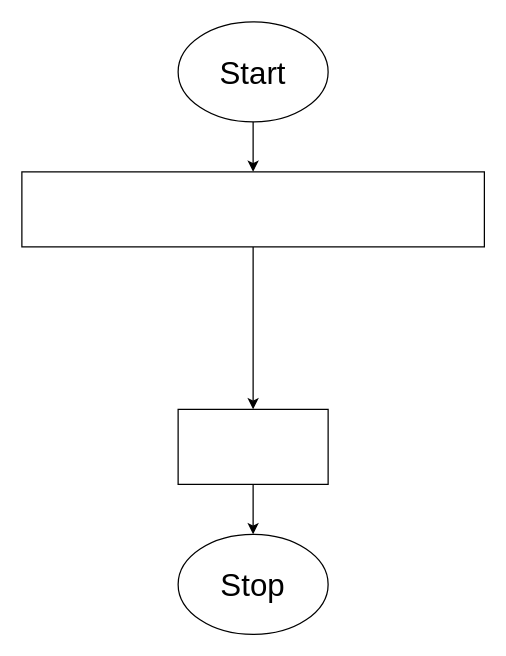
This 506x656 diagram has some shape labels left out. The shapes that lost their labels are listed below. From the top down, each one's centre as x and y in pixels, then its label:
the point at 252,209: Pobierz wartość a wstaw b = 2
the point at 252,446: pokaż a + b
